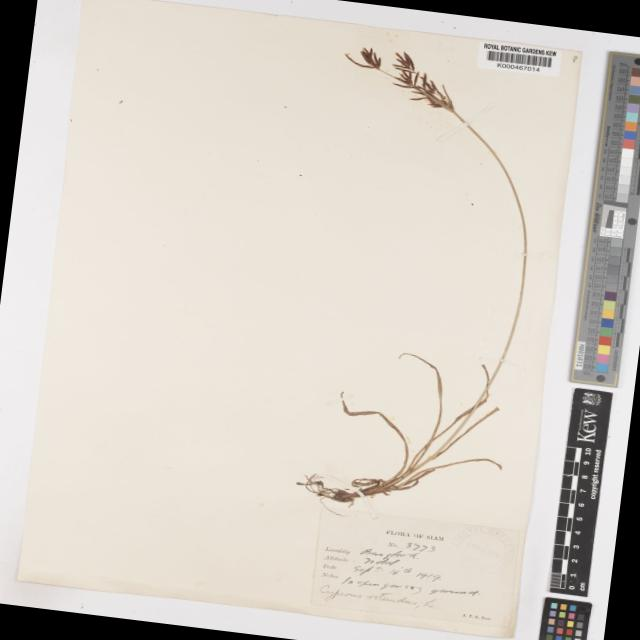cyperus: (331, 33, 470, 124)
